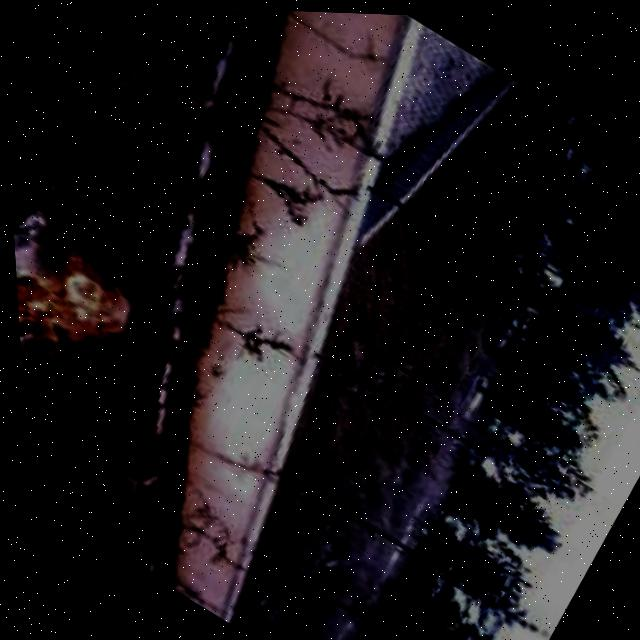Fire: (10, 220, 143, 402)
